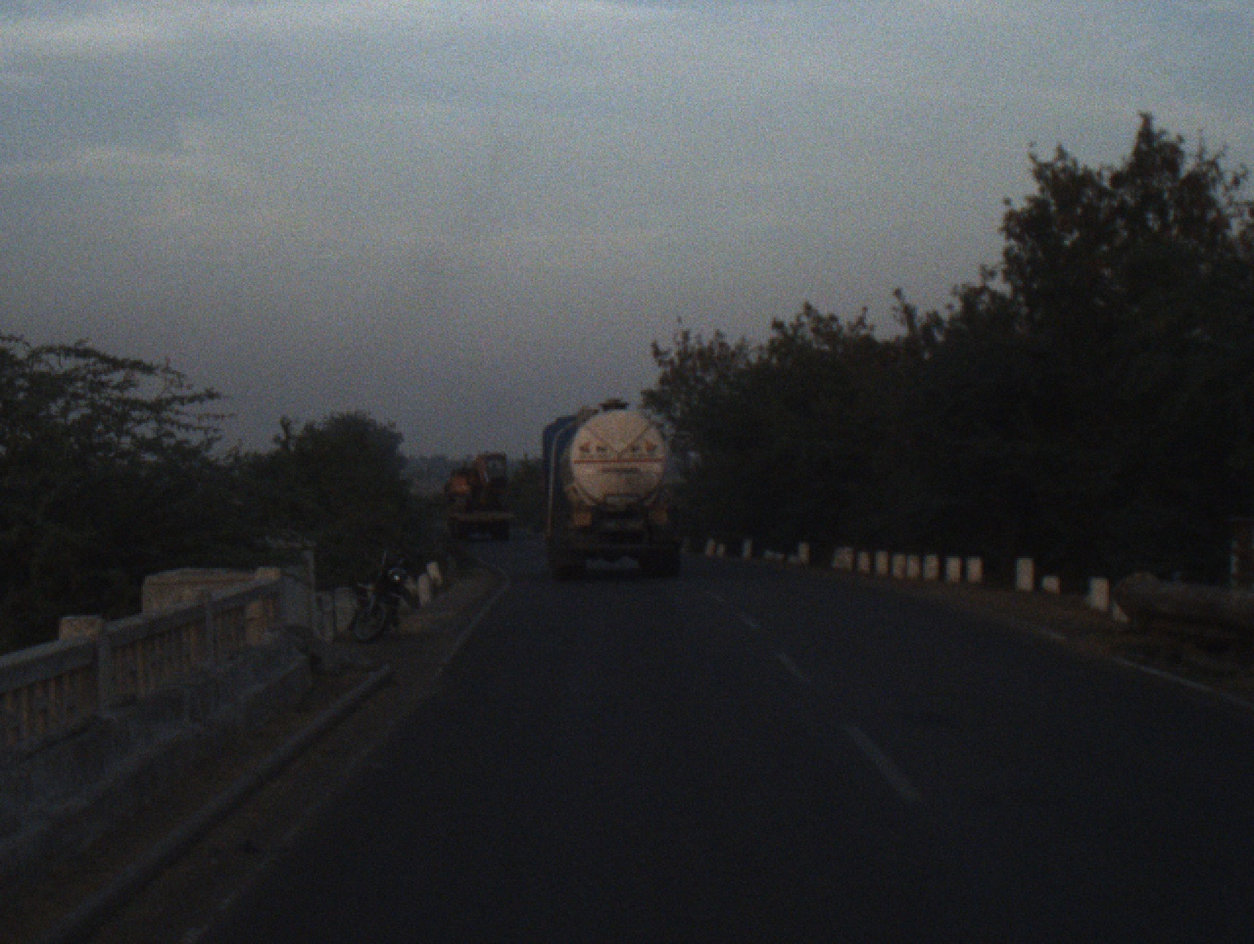motorcycle: (354, 531, 410, 643)
truck: (540, 395, 699, 591)
vehicle fallback: (446, 446, 518, 545)
